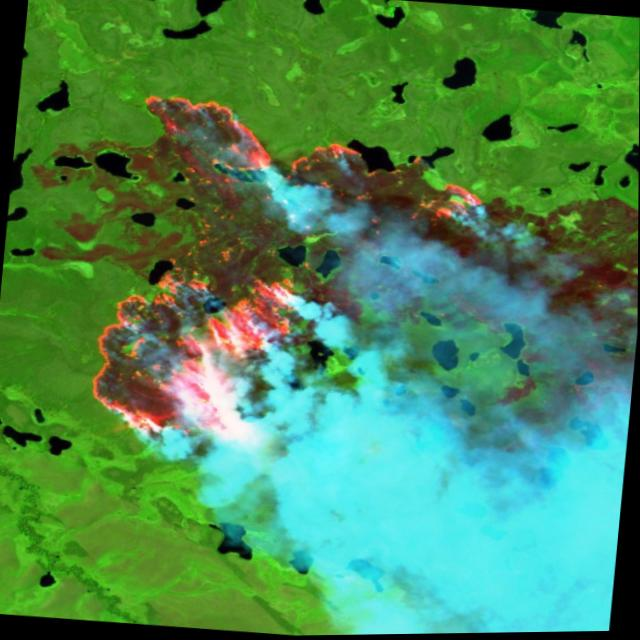fire: (86, 79, 498, 483)
